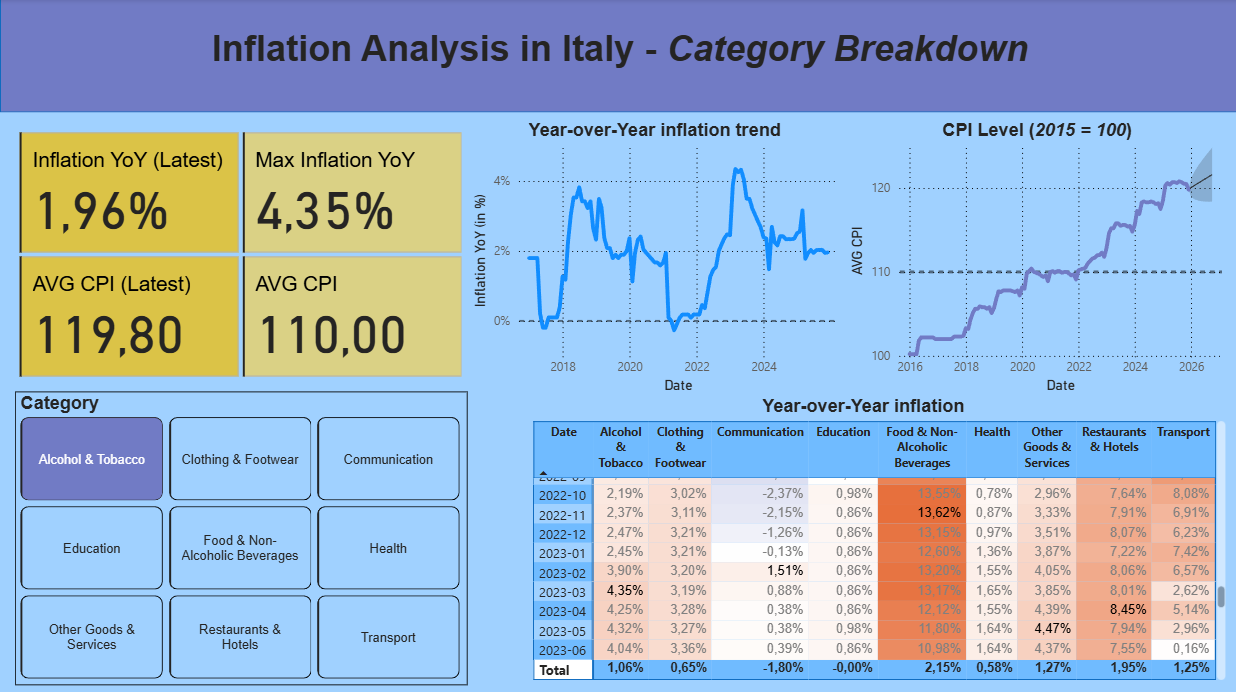

The dashboard page shown, as its layout file describes it:
{"tool":"powerbi","page":{"name":"Category Breakdown","canvas":[1280,720],"ordinal":1},"visuals":[{"type":"shape","box":[0,0,1280,720],"z":0},{"type":"shape","box":[0,0,1280,117.1],"z":1000},{"type":"textbox","box":[0,24.3,1280,67.1],"z":2000},{"type":"cardVisual","fields":{"Data":["TableMeasures.Inflation_YoY_Latest","TableMeasures.Max_Inflation_YoY","TableMeasures.AVG_CPI_Latest","TableMeasures.AVG_CPI"]},"box":[15.7,132.9,467.1,262.9],"z":3000},{"type":"lineChart","fields":{"Y":["NIC.AVG_CPI"],"Category":["NIC.Date"]},"box":[872.9,138.6,397.1,274.3],"z":4000},{"type":"lineChart","fields":{"Category":["Dim_Date.Date.Variation.Date Hierarchy.Year"],"Y":["NIC.Inflation_YoY"]},"box":[482.9,138.6,390,274.3],"z":5000},{"type":"textbox","box":[540,120,277.1,37.1],"z":6000},{"type":"textbox","box":[967.7,120,207.7,37.4],"z":7000},{"type":"advancedSlicerVisual","fields":{"Values":["Dim_Category.Category Group"]},"box":[15.7,405.7,467.1,302.9],"z":8000},{"type":"pivotTable","fields":{"Columns":["Dim_Category.Category Group"],"Values":["TableMeasures.Inflation_YoY"],"Rows":["Dim_Date.Date.Variation.Date Hierarchy.Year"]},"box":[545.7,431.4,724.3,277.1],"z":9000},{"type":"textbox","box":[781.4,405.7,221.4,37.1],"z":10000}]}

Visuals, with their boxes in screenshot pixels (x1, y1, x2, y2), scaled from the page's 1280x720 canvas onto the 1236x692 screenshot:
shape: (0, 0, 1235, 691)
shape: (0, 0, 1235, 113)
textbox: (0, 23, 1235, 88)
cardVisual - TableMeasures.Inflation_YoY_Latest x TableMeasures.Max_Inflation_YoY: (15, 128, 466, 380)
lineChart - NIC.AVG_CPI x NIC.Date: (843, 133, 1226, 397)
lineChart - Dim_Date.Date.Variation.Date Hierarchy.Year x NIC.Inflation_YoY: (466, 133, 843, 397)
textbox: (521, 115, 789, 151)
textbox: (934, 115, 1135, 151)
advancedSlicerVisual - Dim_Category.Category Group: (15, 390, 466, 681)
pivotTable - Dim_Category.Category Group x TableMeasures.Inflation_YoY: (527, 415, 1226, 681)
textbox: (755, 390, 968, 426)
